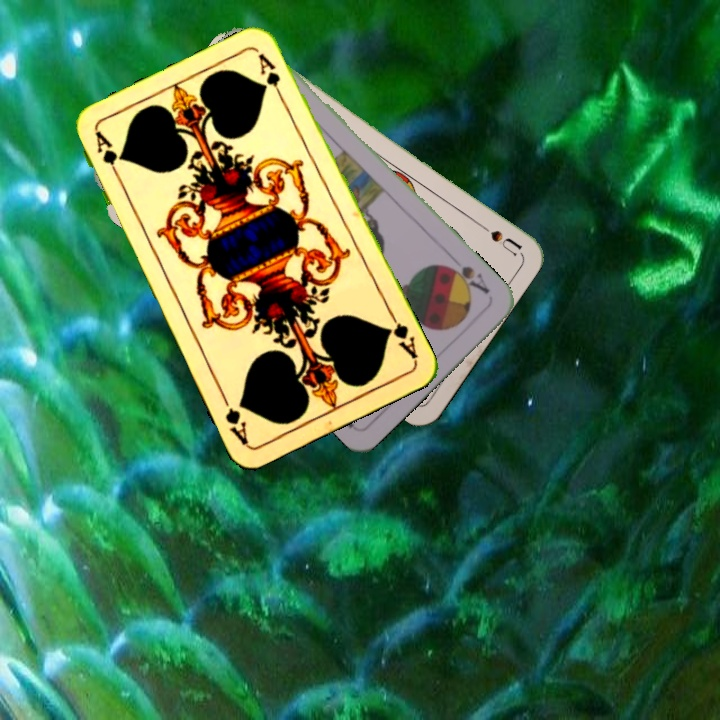GA: (382, 308, 421, 362), (91, 128, 124, 184)
SA: (441, 261, 493, 297)
SU: (469, 215, 524, 258)
